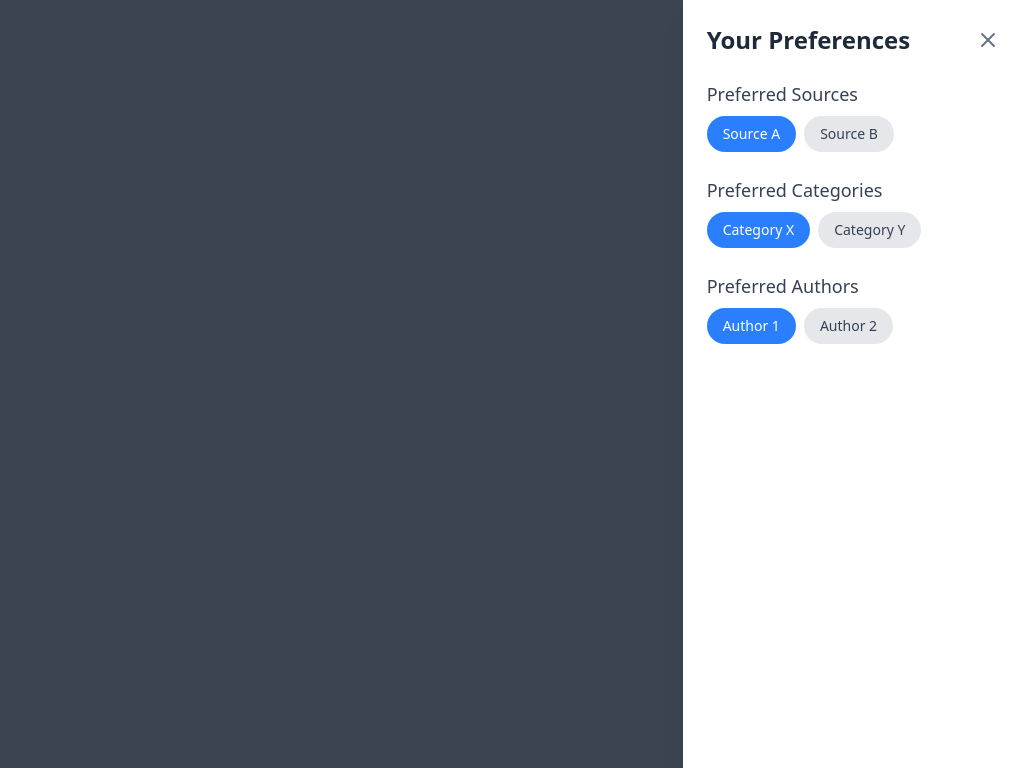
Test: PreferencesPanel › shows error if saving preferences fails
What coordinates should you click on to do the following:
click the button "Source B"
I would click on:
 (849, 134)
Its box is [804, 116, 894, 152].
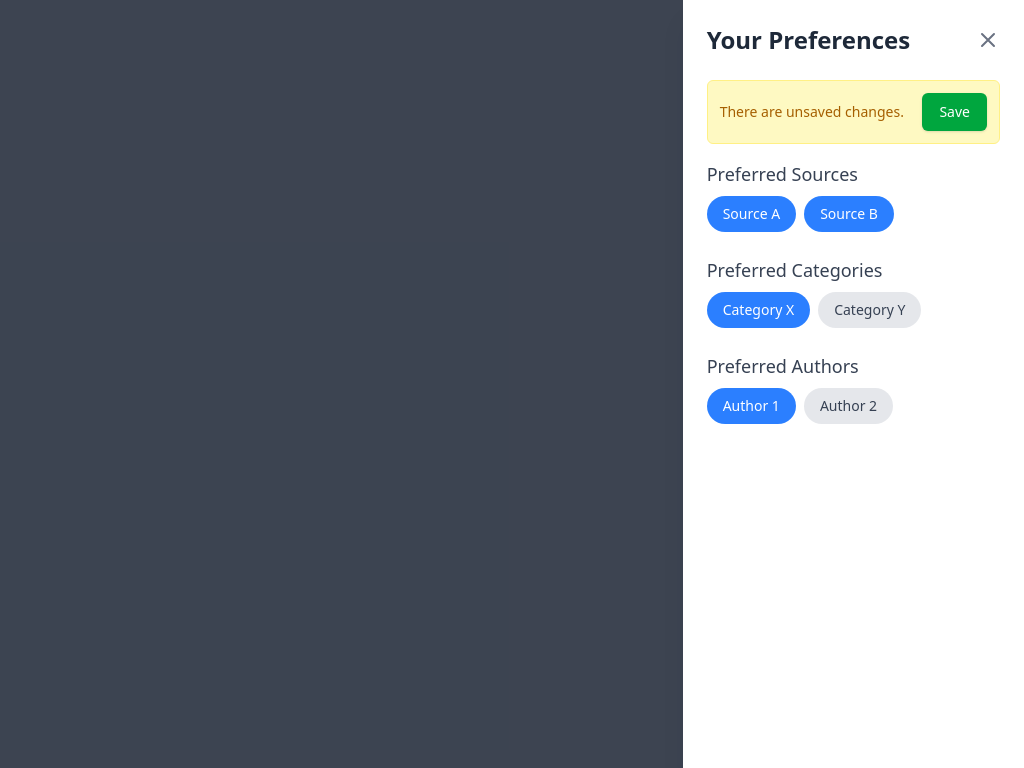
What coordinates should you click on to do the following:
click the button "Save"
I would click on:
 (955, 112)
Its box is [922, 93, 987, 131].
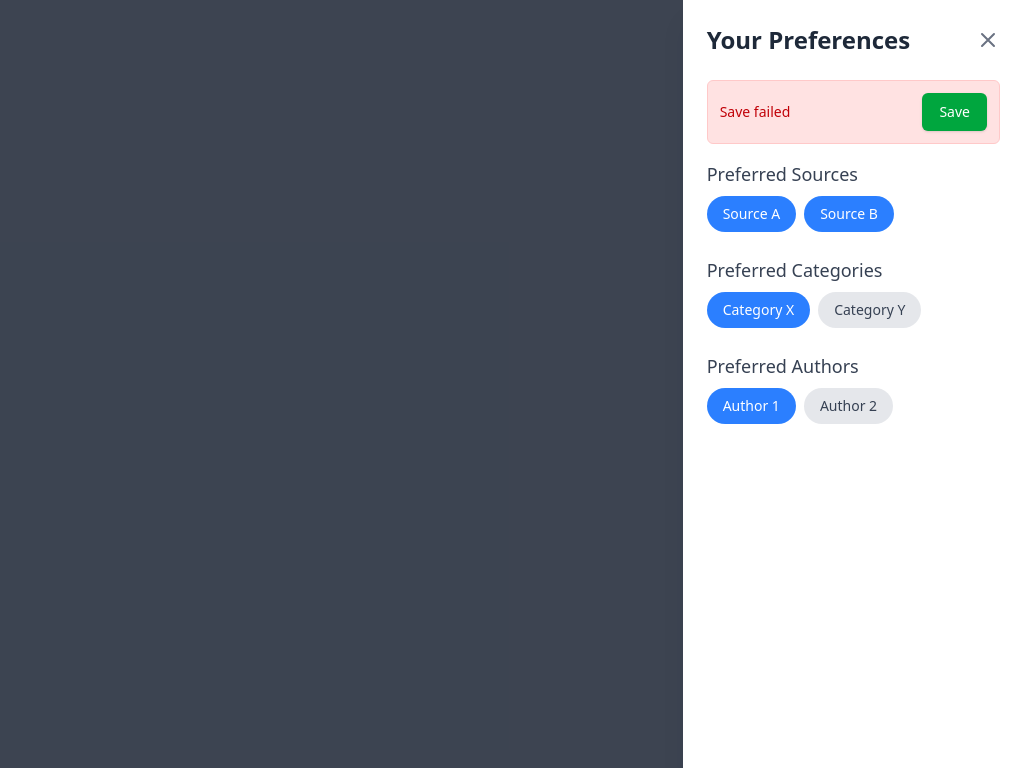
Now the text "Save failed" is shown, box [720, 102, 790, 122]
